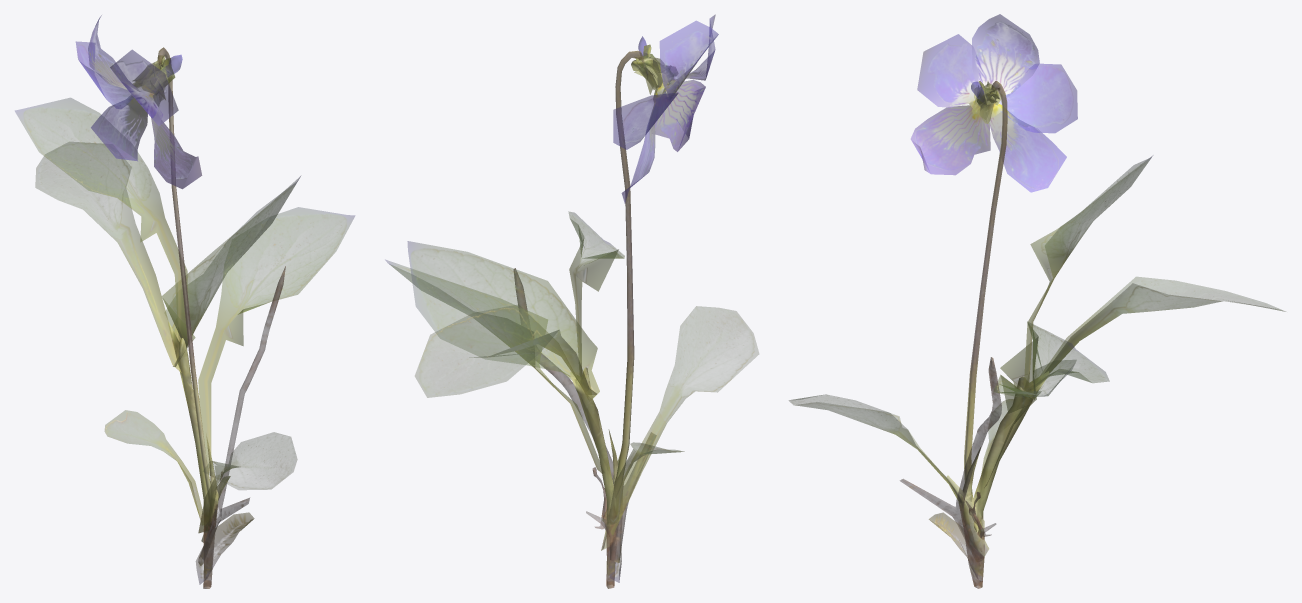
The model's file is preview.glb.
The picture shows the model from 3 angles, left to right: view 1: azimuth 30°, elevation 25°; view 2: azimuth 150°, elevation 25°; view 3: azimuth 270°, elevation 25°; orthographic projection. The views are drawn at different scales.
Visible parts, largest first — view 1: Flower_Viola_reichenbachiana_C_Flower_glb; view 2: Flower_Viola_reichenbachiana_C_Flower_glb; view 3: Flower_Viola_reichenbachiana_C_Flower_glb.
Boxes of the visible parts, x1=… form: Flower_Viola_reichenbachiana_C_Flower_glb: x1=15, y1=15, x2=354, y2=588; Flower_Viola_reichenbachiana_C_Flower_glb: x1=385, y1=14, x2=758, y2=588; Flower_Viola_reichenbachiana_C_Flower_glb: x1=789, y1=14, x2=1285, y2=588.
Size of the model in its own units: 0.1936 by 0.3725 by 0.3175.
Materials: 1 (1 with a texture image).
